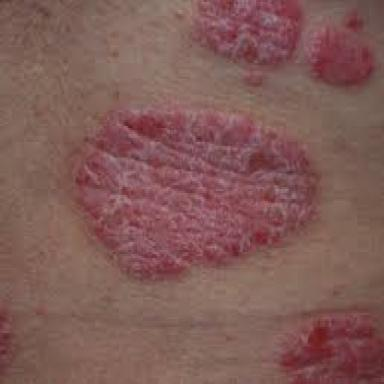Psoriasis: (75, 104, 317, 280), (192, 2, 298, 88), (279, 314, 384, 383), (301, 11, 376, 84), (1, 302, 18, 375)
